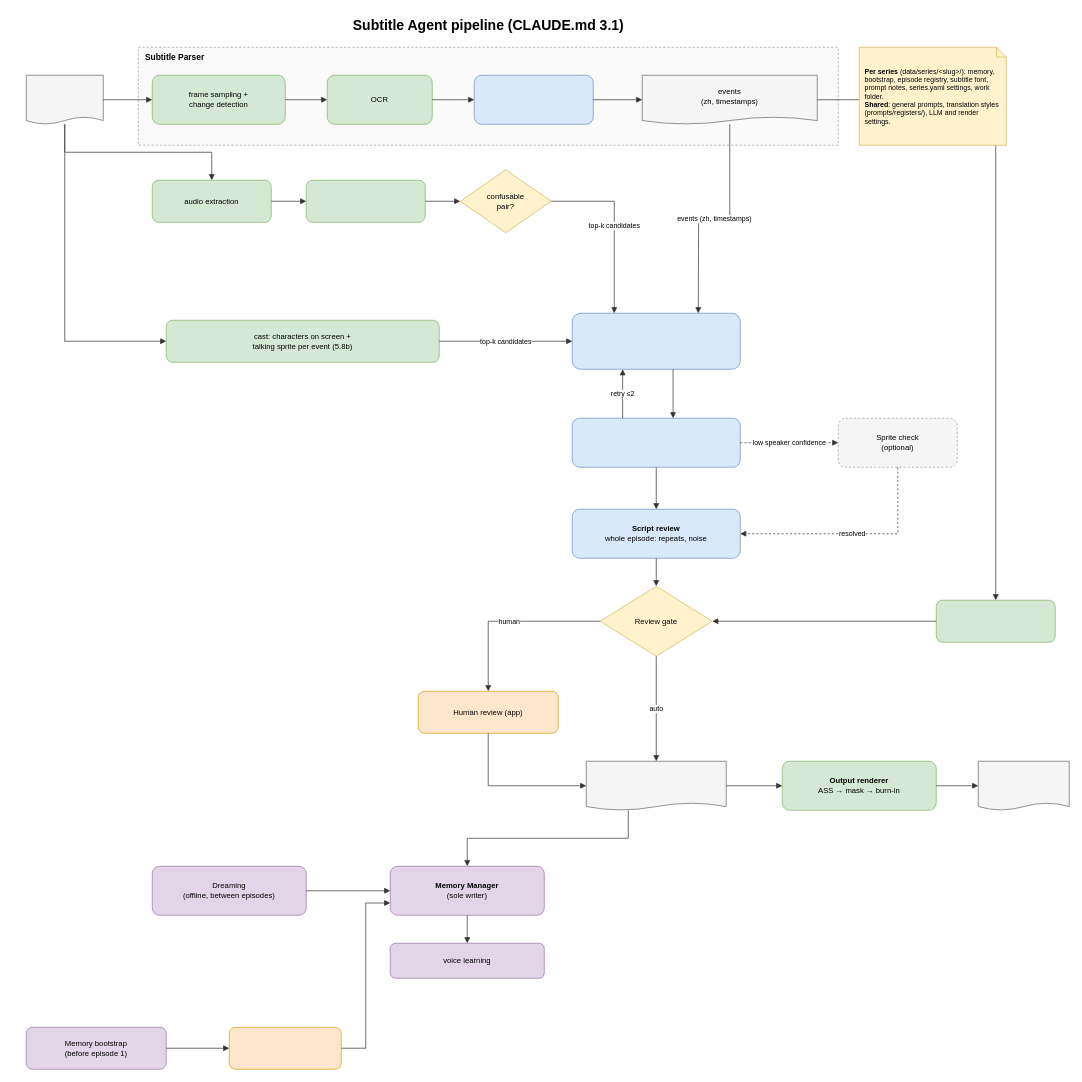
The diagram is 1082 pixels wide and 1082 high, and some of its shapes have lost their labels. Each missing label, with the box of its shape:
Approved script + edits: (586, 761, 726, 810)
Evaluator rule checks + LLM rubric: (572, 418, 740, 467)
final video: (978, 761, 1069, 810)
human review: (229, 1027, 341, 1069)
OCR correction: (474, 75, 593, 124)
Pinyin: (936, 600, 1055, 642)
Translator scene window + speaker / listener inference: (572, 313, 740, 369)
Video: (26, 75, 103, 124)
voice match per event: (306, 180, 425, 222)
